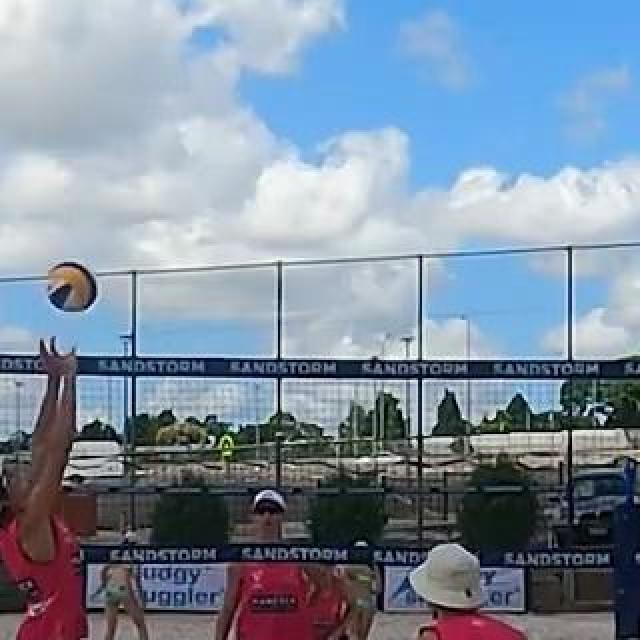volleyball: (47, 261, 97, 313)
